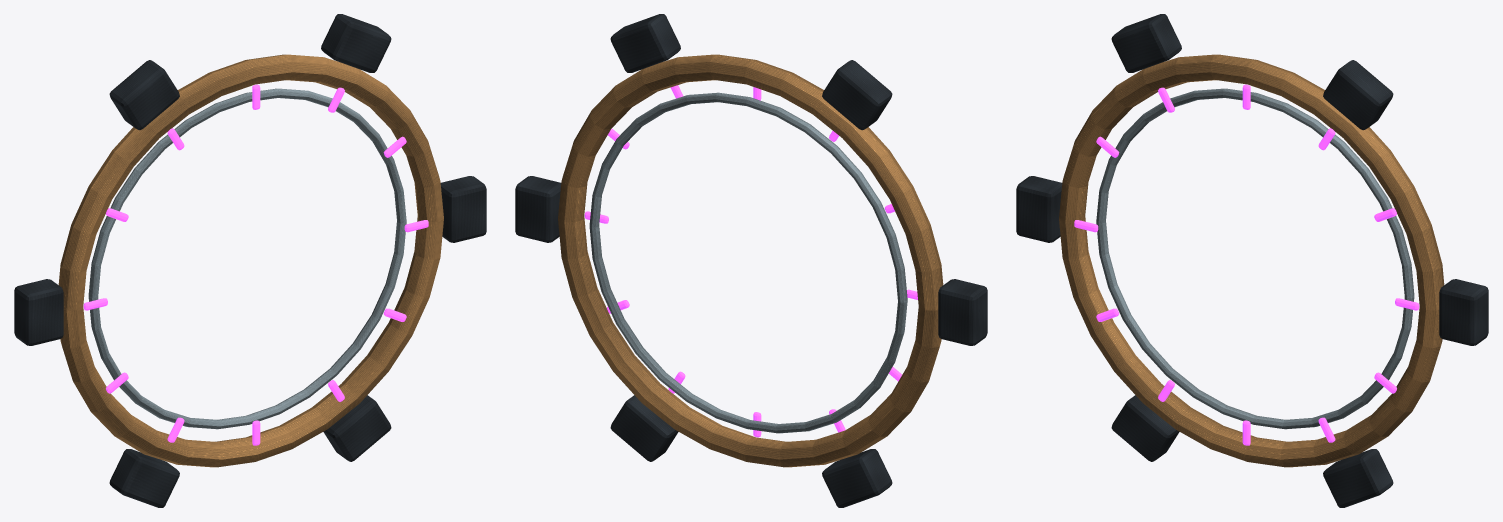
Rendered from void_ring.glb.
The picture shows the model from 3 angles, left to right: view 1: azimuth 30°, elevation 25°; view 2: azimuth 150°, elevation 25°; view 3: azimuth 330°, elevation 25°; orthographic projection.
Visible parts, largest first — view 1: void_ring; view 2: void_ring; view 3: void_ring.
Boxes of the visible parts, x1,y1,x2,y2 form: void_ring: (14, 14, 486, 507); void_ring: (515, 14, 987, 507); void_ring: (1016, 14, 1488, 507).
Size of the model in its own units: 3.7 by 3.38 by 0.22.
Materials: 4 (3 with a texture image).
